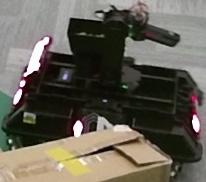light: (25, 36, 49, 77)
